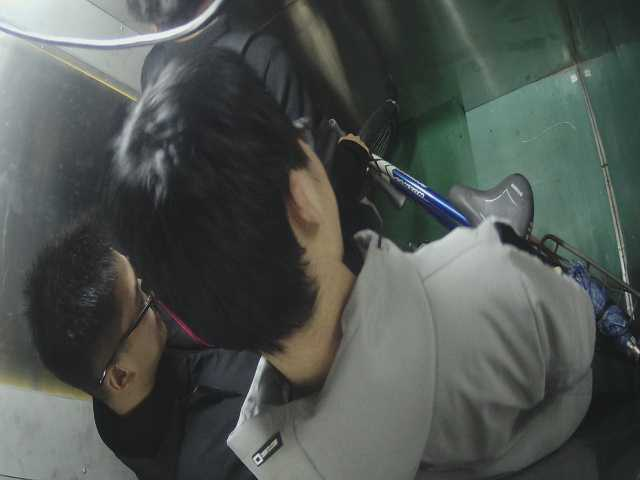bicycle: (310, 96, 640, 365)
person: (103, 49, 608, 480), (21, 214, 283, 480)
